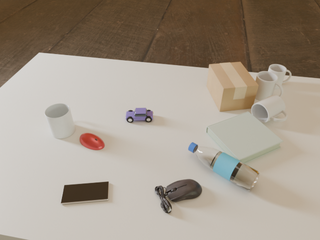book: (206, 112, 283, 164)
bottle: (188, 142, 260, 191)
box: (207, 62, 258, 111)
cup: (45, 103, 75, 139), (251, 95, 287, 123), (255, 71, 283, 101), (268, 64, 291, 89)
mouse: (155, 179, 202, 213), (80, 133, 104, 150)
phone: (61, 182, 109, 204)
toy_car: (126, 108, 153, 123)
